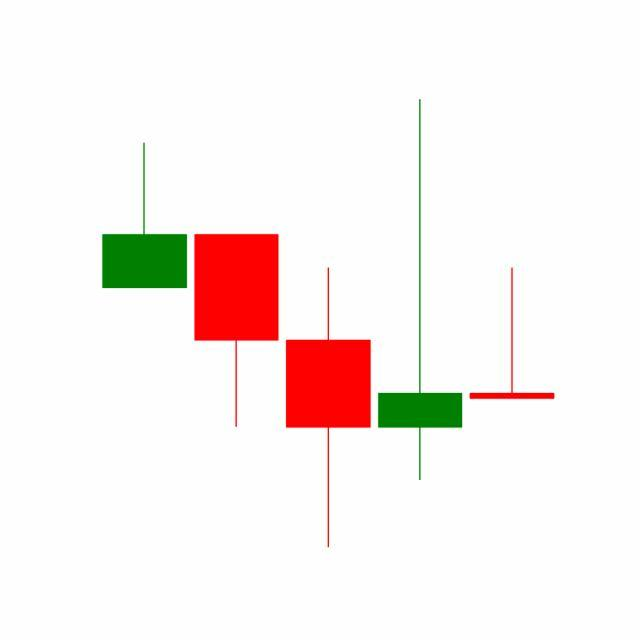Spinning Top: (374, 95, 468, 485)
